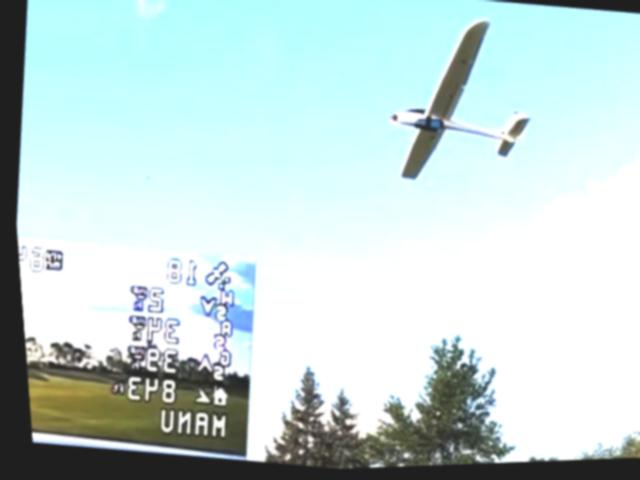iha: (373, 10, 545, 201)
